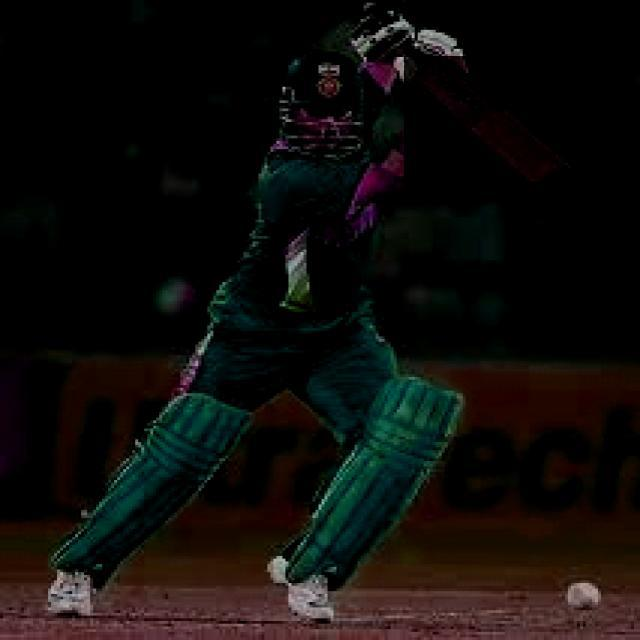bat: (403, 55, 583, 226)
